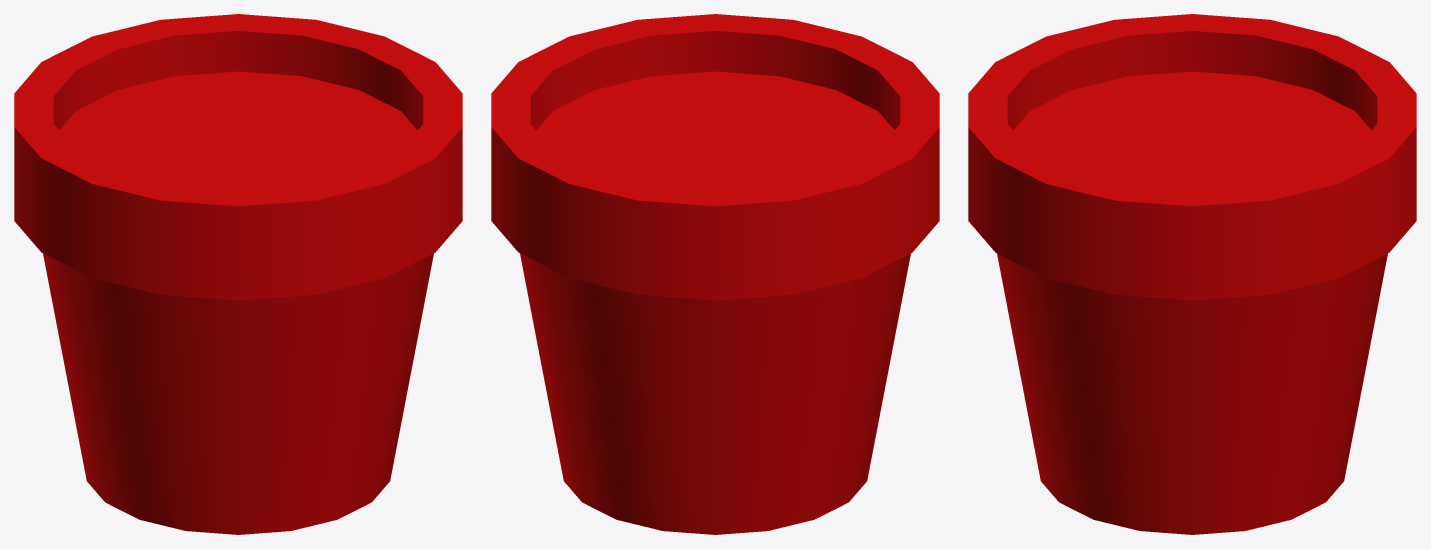
The model's file is Attic_FlowerPot_01_LP.glb.
The picture shows the model from 3 angles, left to right: view 1: azimuth 30°, elevation 25°; view 2: azimuth 150°, elevation 25°; view 3: azimuth 270°, elevation 25°; orthographic projection.
Visible parts, largest first — view 1: Attic_FlowerPot_01_LP; view 2: Attic_FlowerPot_01_LP; view 3: Attic_FlowerPot_01_LP.
Part boxes in pixels (x1,y1,x2,y2): Attic_FlowerPot_01_LP: (14, 14, 462, 534); Attic_FlowerPot_01_LP: (491, 14, 939, 534); Attic_FlowerPot_01_LP: (968, 14, 1416, 534).
Size of the model in its own units: 0.278 by 0.2424 by 0.2738.
